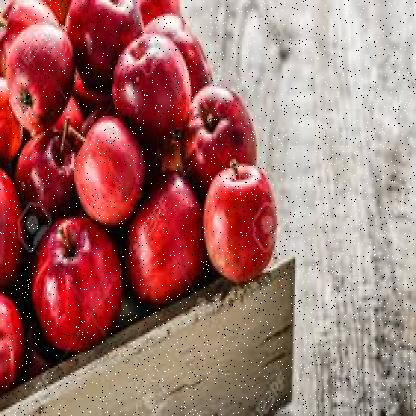apple: (32, 212, 116, 348), (118, 184, 200, 302), (62, 2, 154, 98), (108, 27, 186, 139), (204, 166, 276, 286), (6, 29, 82, 130), (178, 84, 252, 175), (76, 120, 140, 222), (18, 125, 77, 216)
